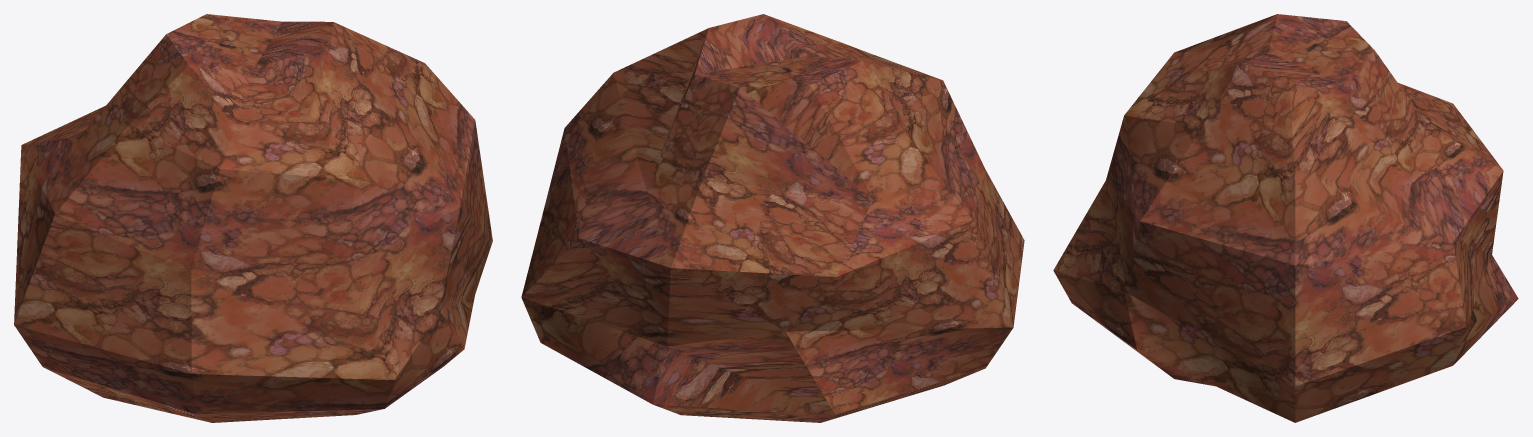
Rendered from ROCK_2M_2M.fbx.
The picture shows the model from 3 angles, left to right: view 1: azimuth 30°, elevation 25°; view 2: azimuth 150°, elevation 25°; view 3: azimuth 270°, elevation 25°; orthographic projection. The views are drawn at different scales.
Parts seen in each view (by area): view 1: pSphere2; view 2: pSphere2; view 3: pSphere2.
Part boxes in pixels (<box>): pSphere2: <box>14,14,492,422</box>; pSphere2: <box>521,14,1024,422</box>; pSphere2: <box>1053,14,1518,422</box>.
Size of the model in its own units: 413 by 274 by 385.
